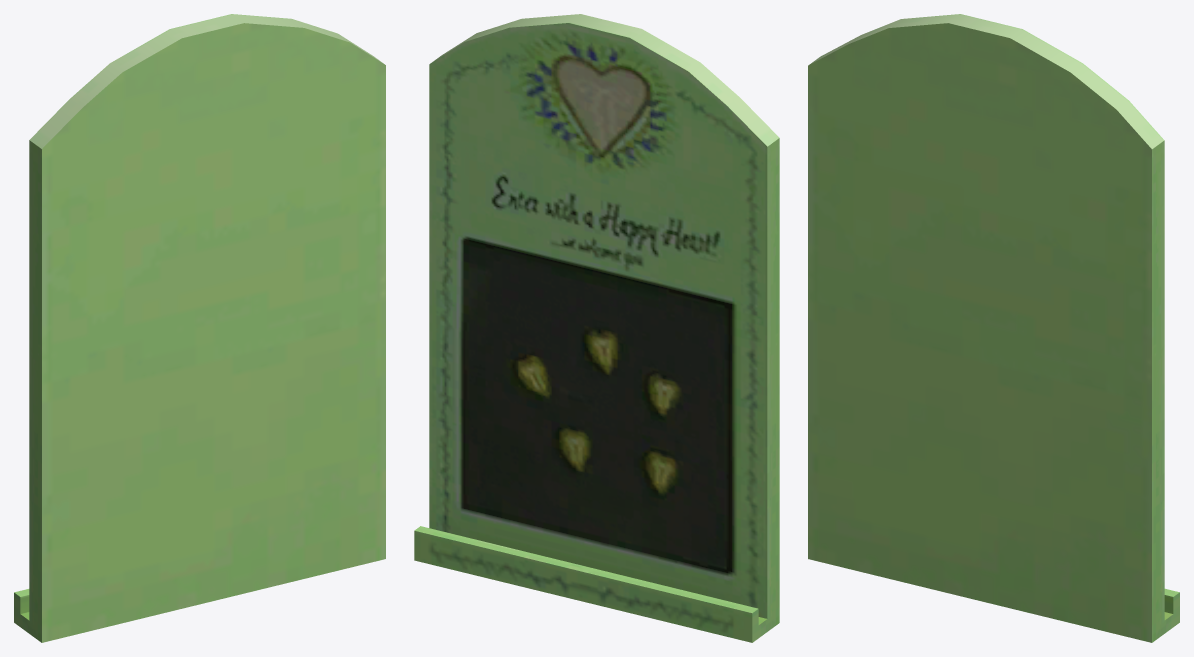
Rendered from furni_0200142_02.FBX.
3 views of the same model, side by side, from view 1: azimuth 30°, elevation 25°; view 2: azimuth 150°, elevation 25°; view 3: azimuth 330°, elevation 25° (orthographic).
Parts seen in each view (by area): view 1: furni_0200142_02; view 2: furni_0200142_02; view 3: furni_0200142_02.
Boxes of the visible parts, x1=… form: furni_0200142_02: x1=14, y1=14, x2=385, y2=642; furni_0200142_02: x1=414, y1=14, x2=779, y2=642; furni_0200142_02: x1=808, y1=14, x2=1179, y2=642.
Size of the model in its own units: 47.9 by 75.89 by 6.7.
